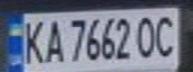2: (115, 14, 136, 61)
6: (84, 15, 103, 62), (100, 14, 118, 62)
7: (66, 15, 87, 63)
A: (39, 16, 66, 64)
C: (151, 11, 181, 60)
K: (18, 16, 48, 65)
O: (133, 12, 160, 60)
